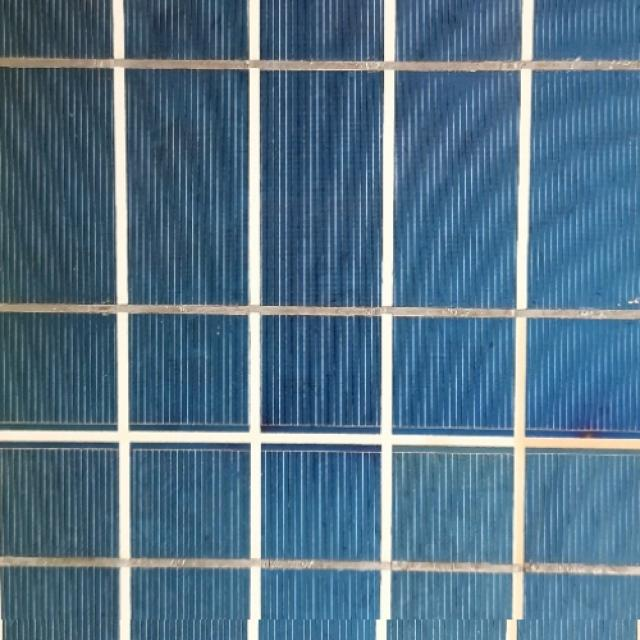Clean: (0, 0, 640, 620)
